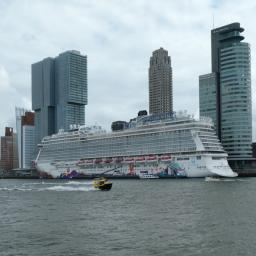cruises: (31, 112, 240, 183)
